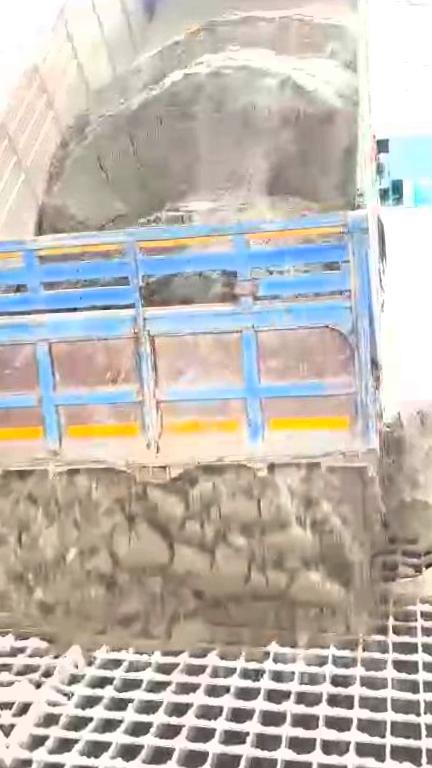sand: (0, 465, 383, 649), (41, 13, 358, 230), (384, 393, 432, 602)
